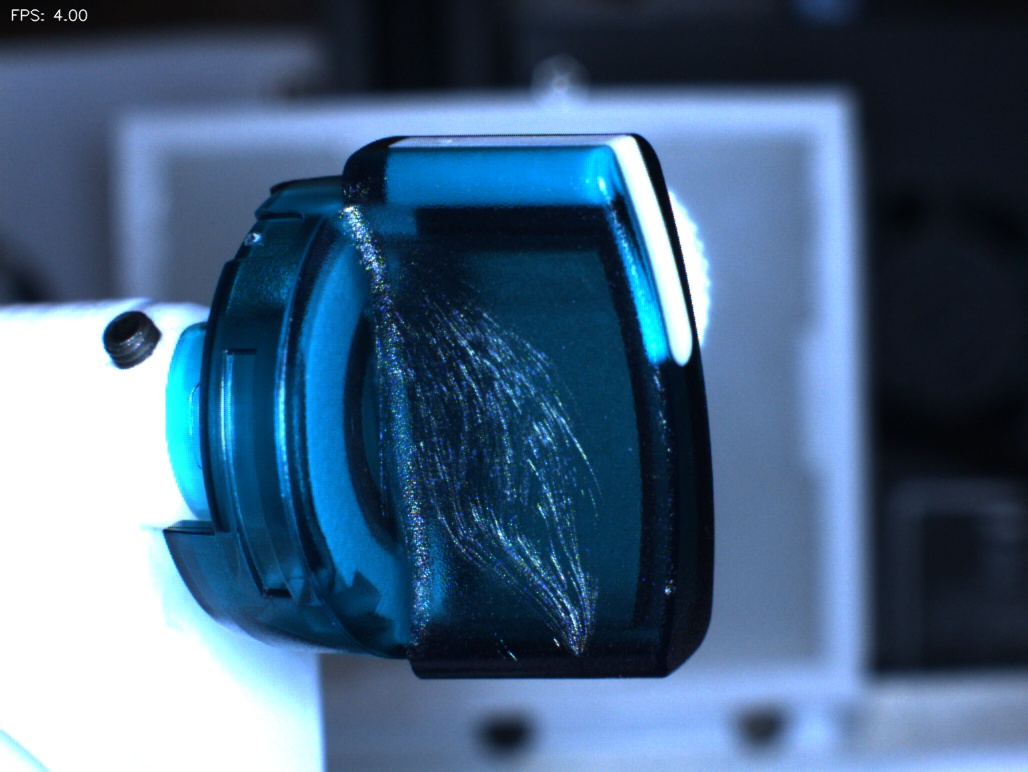Givrage: (379, 284, 610, 650)
